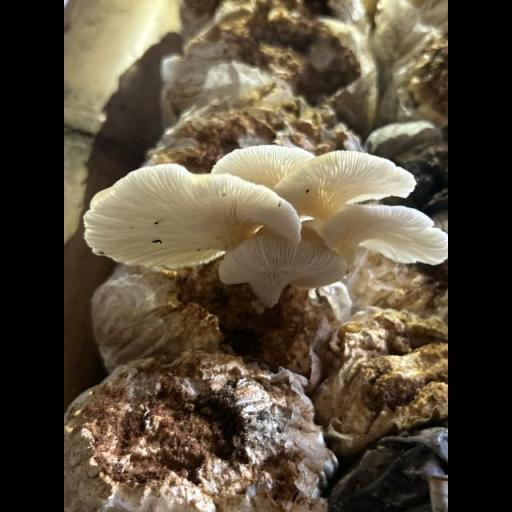White Oyster Mushroom: (85, 145, 444, 300)
